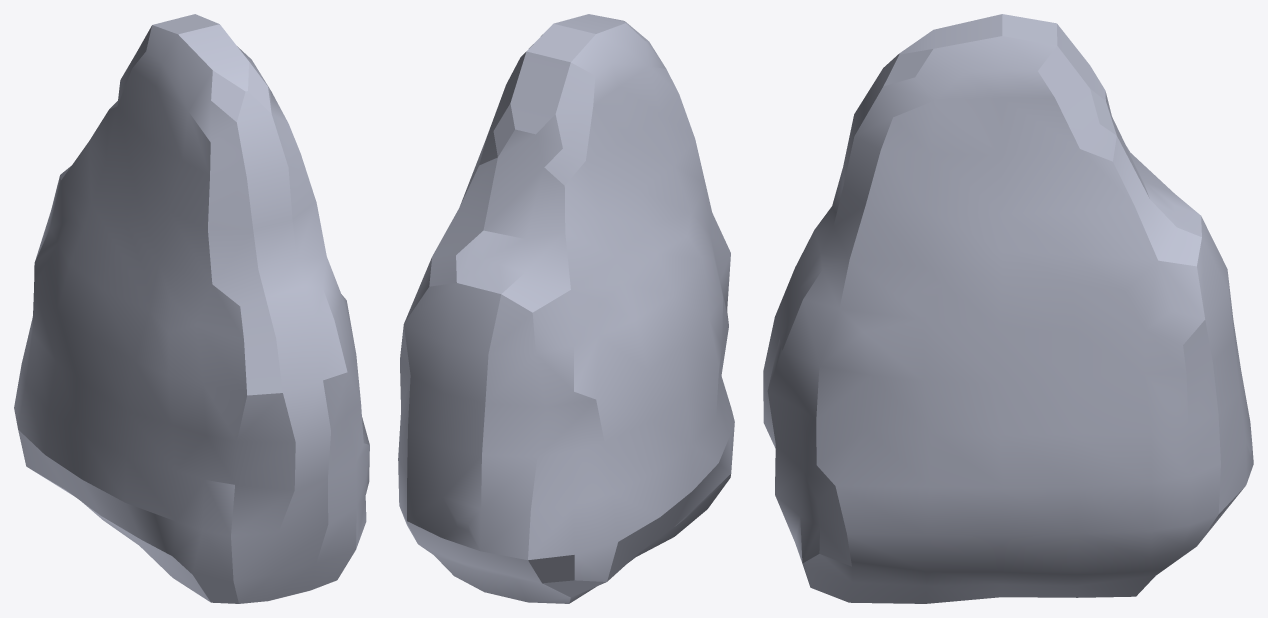
File: stone_01.fbx
The picture shows the model from 3 angles, left to right: view 1: azimuth 30°, elevation 25°; view 2: azimuth 150°, elevation 25°; view 3: azimuth 270°, elevation 25°; orthographic projection. The views are drawn at different scales.
Visible parts, largest first — view 1: Stone_01; view 2: Stone_01; view 3: Stone_01.
Part boxes in pixels (x1=…): Stone_01: x1=14, y1=14, x2=369, y2=603; Stone_01: x1=398, y1=14, x2=734, y2=603; Stone_01: x1=763, y1=14, x2=1253, y2=603.
Bounding box in the file's own units: 22.14 × 48.03 × 38.57.
